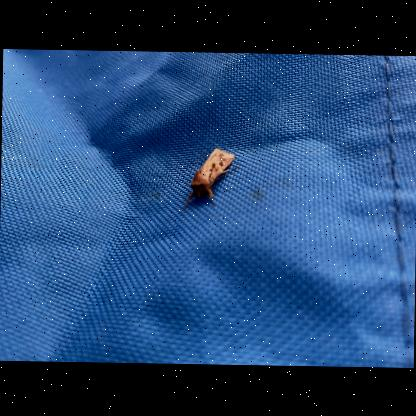Fall Armyworm Moth: (181, 145, 240, 213)
